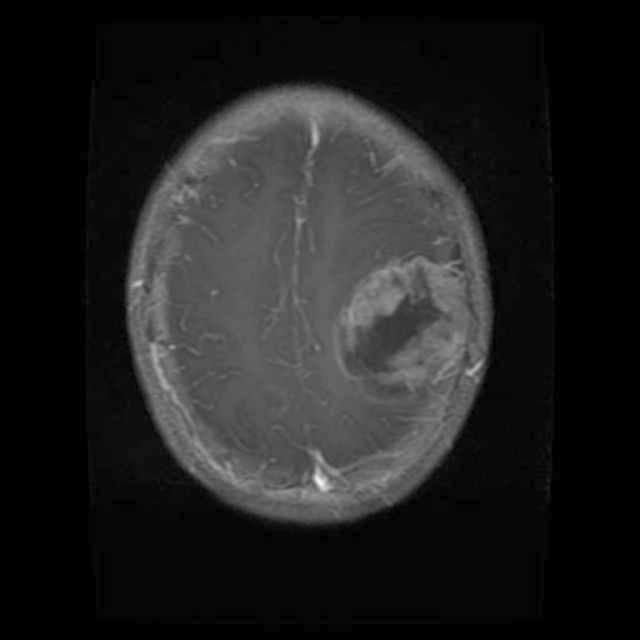pituitary tumor: (331, 250, 471, 390)
